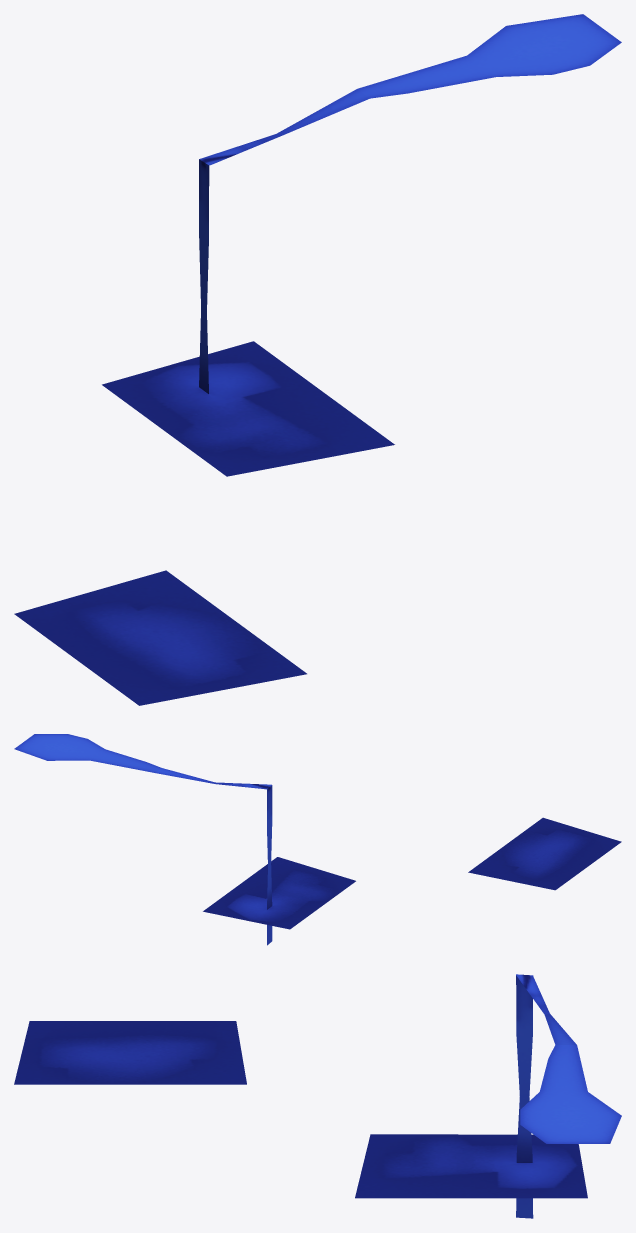
Rendered from Water_01.FBX.
3 renders of one model, top to bottom at view 1: azimuth 30°, elevation 25°; view 2: azimuth 150°, elevation 25°; view 3: azimuth 270°, elevation 25°, orthographic. The views are drawn at different scales.
Parts seen in each view (by area): view 1: Water_01; view 2: Water_01; view 3: Water_01.
Boxes of the visible parts, box(x1,y1,x2,y2) form: Water_01: box(14, 14, 621, 705); Water_01: box(14, 734, 621, 945); Water_01: box(14, 974, 621, 1218).
Size of the model in its own units: 19.33 by 6.98 by 15.53.
